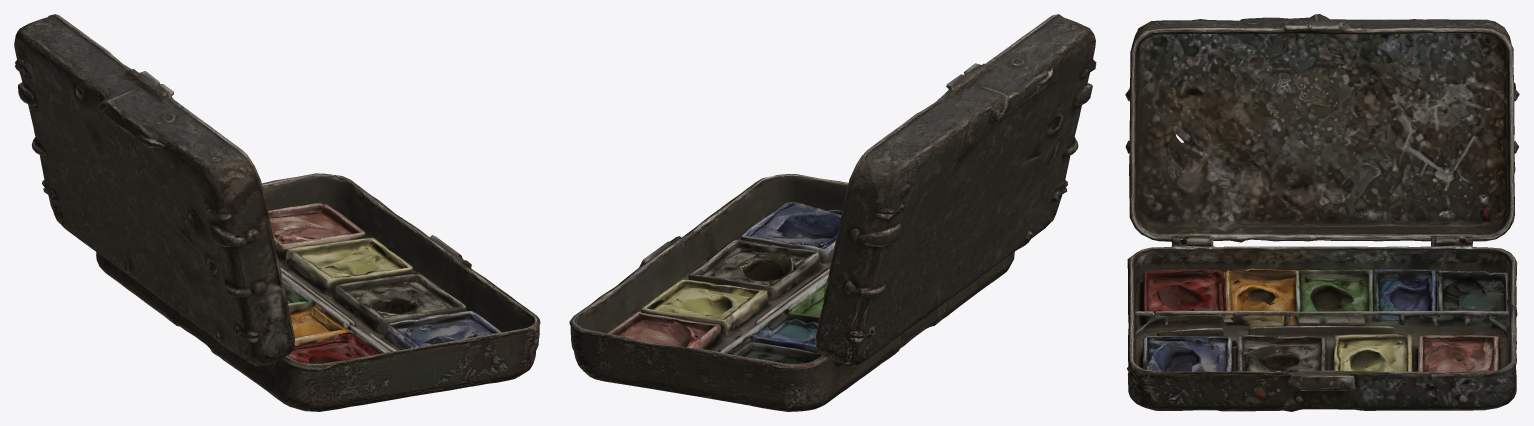
The picture shows the model from 3 angles, left to right: view 1: azimuth 30°, elevation 25°; view 2: azimuth 150°, elevation 25°; view 3: azimuth 270°, elevation 25°; orthographic projection. The views are drawn at different scales.
Visible parts, largest first — view 1: tripo_node_c4c5f68b-3266-4a2c-b4cc-aab09fafc2c9; view 2: tripo_node_c4c5f68b-3266-4a2c-b4cc-aab09fafc2c9; view 3: tripo_node_c4c5f68b-3266-4a2c-b4cc-aab09fafc2c9.
Boxes of the visible parts, x1,y1,x2,y2 form: tripo_node_c4c5f68b-3266-4a2c-b4cc-aab09fafc2c9: (14, 14, 540, 411); tripo_node_c4c5f68b-3266-4a2c-b4cc-aab09fafc2c9: (569, 14, 1096, 411); tripo_node_c4c5f68b-3266-4a2c-b4cc-aab09fafc2c9: (1125, 14, 1519, 411).
Size of the model in its own units: 0.9378 by 0.7411 by 1.
Materials: 1 (1 with a texture image).
